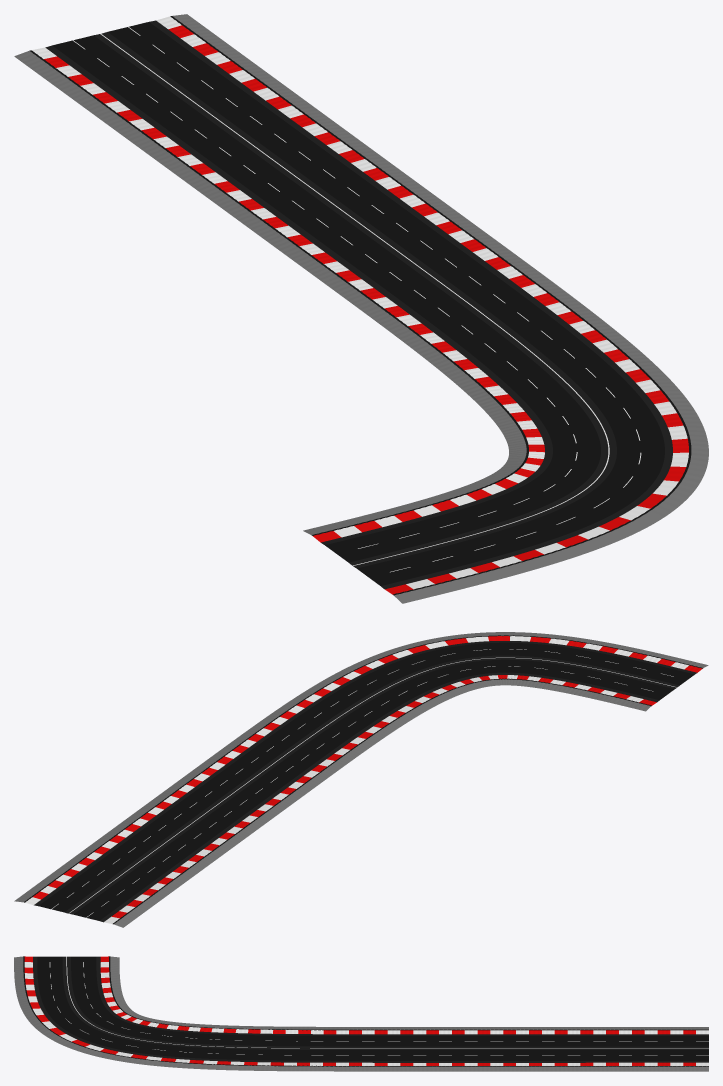
3 views of the same model, one above another, from view 1: azimuth 30°, elevation 25°; view 2: azimuth 150°, elevation 25°; view 3: azimuth 270°, elevation 25° (orthographic). The views are drawn at different scales.
Parts seen in each view (by area): view 1: Grid; view 2: Grid; view 3: Grid.
Part boxes in pixels (<box>): Grid: <box>14,14,708,603</box>; Grid: <box>14,632,708,927</box>; Grid: <box>14,956,708,1071</box>.
Bounding box in the file's own units: 63.93 × 0.31 × 165.
